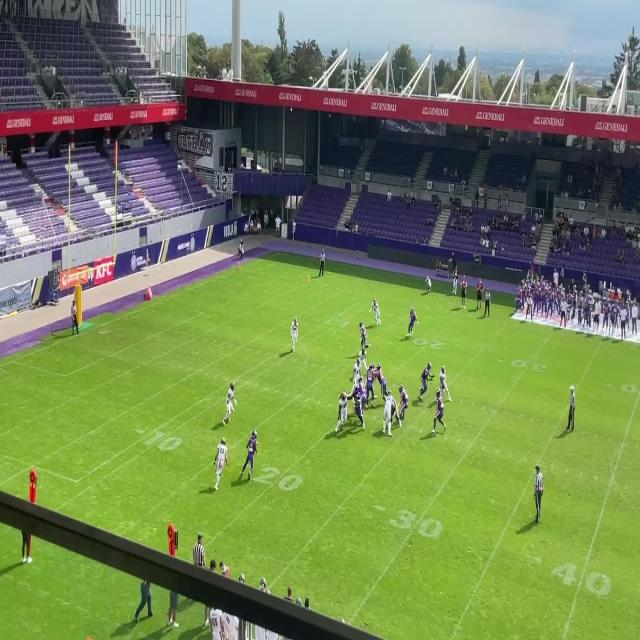1: (135, 427, 172, 452)
2: (252, 463, 281, 491)
3: (390, 500, 418, 536)
4: (552, 557, 580, 594)
american-football-players: (238, 429, 259, 487), (213, 436, 229, 493), (348, 383, 366, 431), (432, 389, 448, 438), (222, 381, 238, 428), (334, 391, 350, 435), (373, 363, 391, 401), (382, 389, 395, 439), (365, 363, 376, 413), (439, 364, 452, 405), (420, 362, 434, 400), (406, 307, 421, 341), (397, 384, 409, 424), (359, 319, 372, 350), (290, 317, 300, 355), (358, 377, 368, 413), (358, 344, 370, 371), (370, 297, 381, 323), (390, 398, 399, 427), (349, 377, 361, 397), (352, 362, 362, 378)
